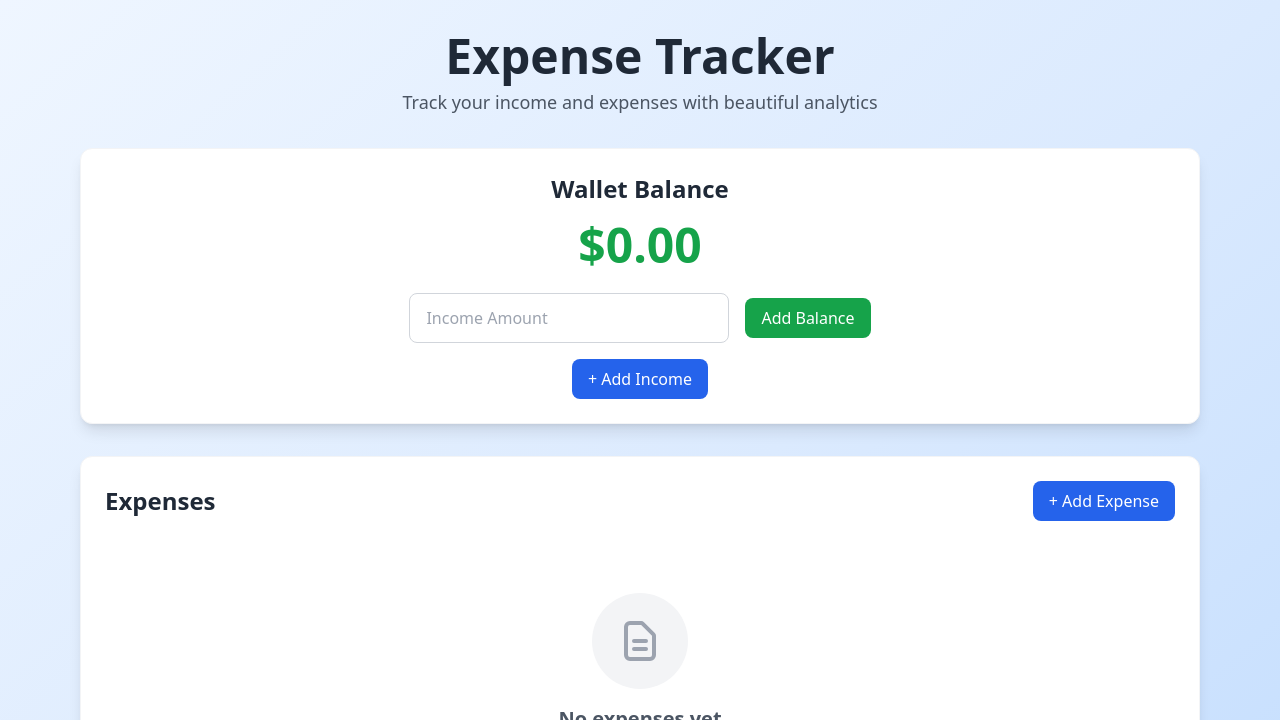
Modern Expense Tracker App › should open expense modal with smooth animations
The width and height of the screenshot is (1280, 720).
Click the button "+ Add Expense": (1104, 501) [1033, 481, 1175, 521]
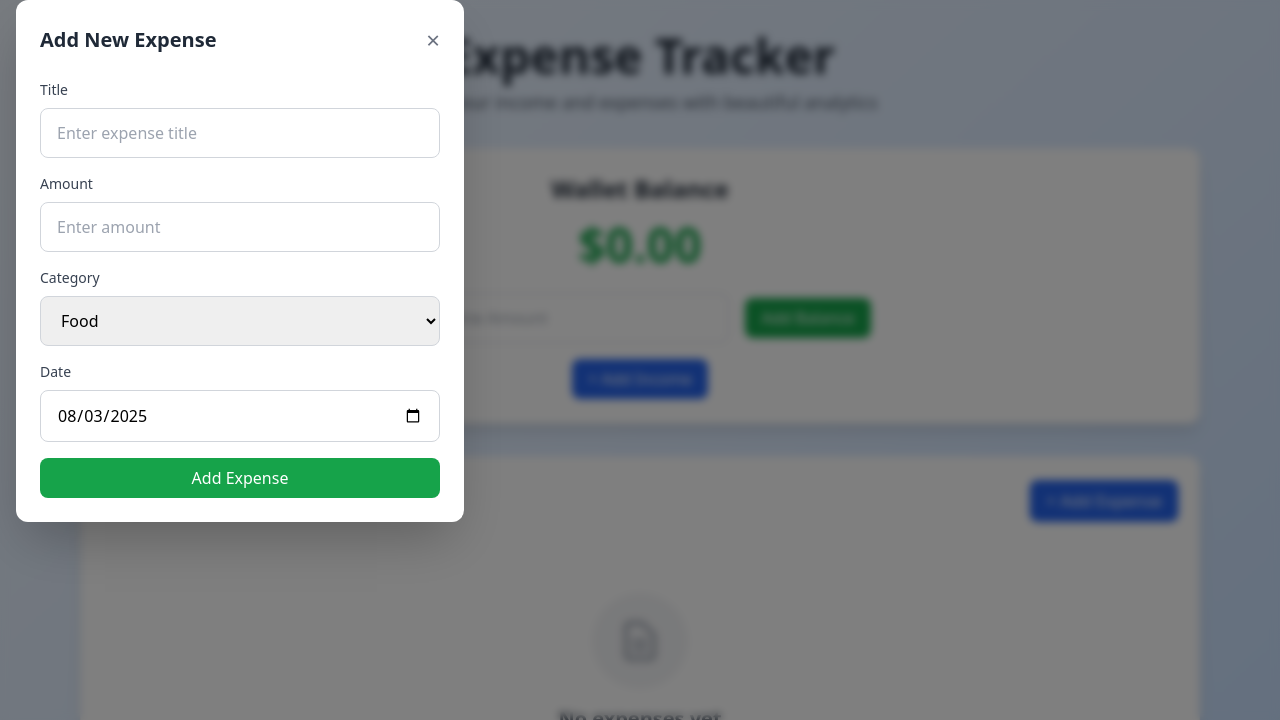
Result: the element with class "modal-overlay" is shown
Result: the element with class "modal-content" is shown at [16, 0, 464, 522]
Result: the heading "Add New Expense" is shown at [40, 26, 216, 54]
